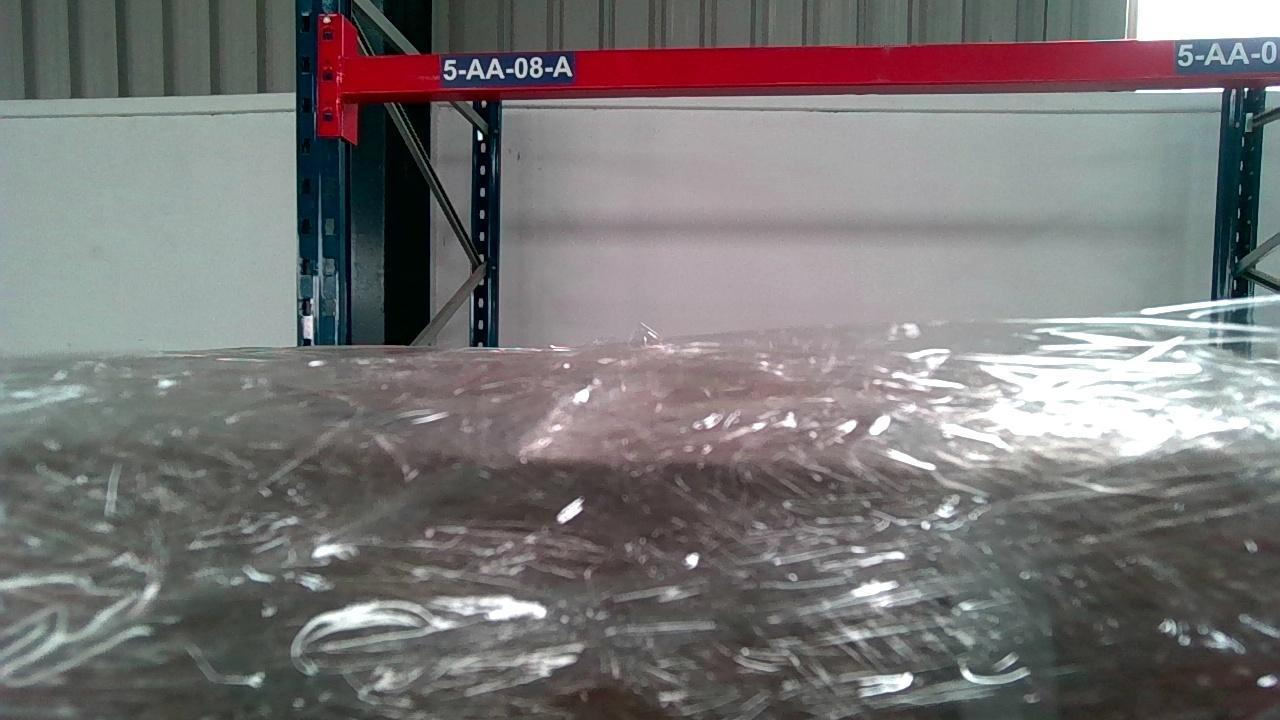h_rack: (344, 39, 1275, 103)
